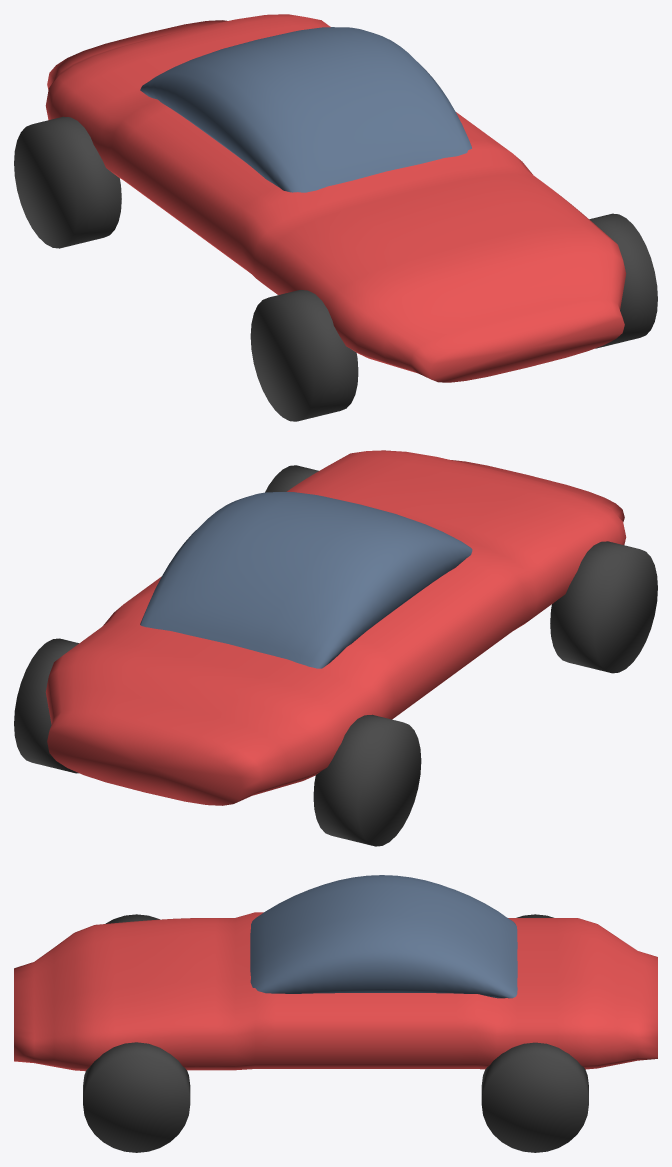
The picture shows the model from 3 angles, top to bottom: view 1: azimuth 30°, elevation 25°; view 2: azimuth 150°, elevation 25°; view 3: azimuth 270°, elevation 25°; orthographic projection. The views are drawn at different scales.
Visible parts, largest first — view 1: Base, Top, Pillar.3, Pillar.1, Pillar.2; view 2: Base, Top, Pillar.3, Pillar.1, Pillar.4, Pillar.2; view 3: Base, Top, Pillar.2, Pillar.4.
Boxes of the visible parts, x1,y1,x2,y2 form: Base: [45, 14, 626, 382]; Top: [140, 27, 471, 192]; Pillar.3: [14, 116, 121, 248]; Pillar.1: [250, 290, 358, 421]; Pillar.2: [589, 213, 657, 348]; Base: [45, 450, 626, 805]; Top: [140, 492, 472, 668]; Pillar.3: [313, 714, 421, 846]; Pillar.1: [550, 541, 657, 673]; Pillar.4: [14, 638, 78, 773]; Pillar.2: [265, 465, 318, 492]; Base: [14, 912, 657, 1071]; Top: [250, 875, 517, 998]; Pillar.2: [83, 1042, 190, 1152]; Pillar.4: [481, 1042, 588, 1152].
Size of the model in its own units: 2.18 by 1.32 by 4.2.
